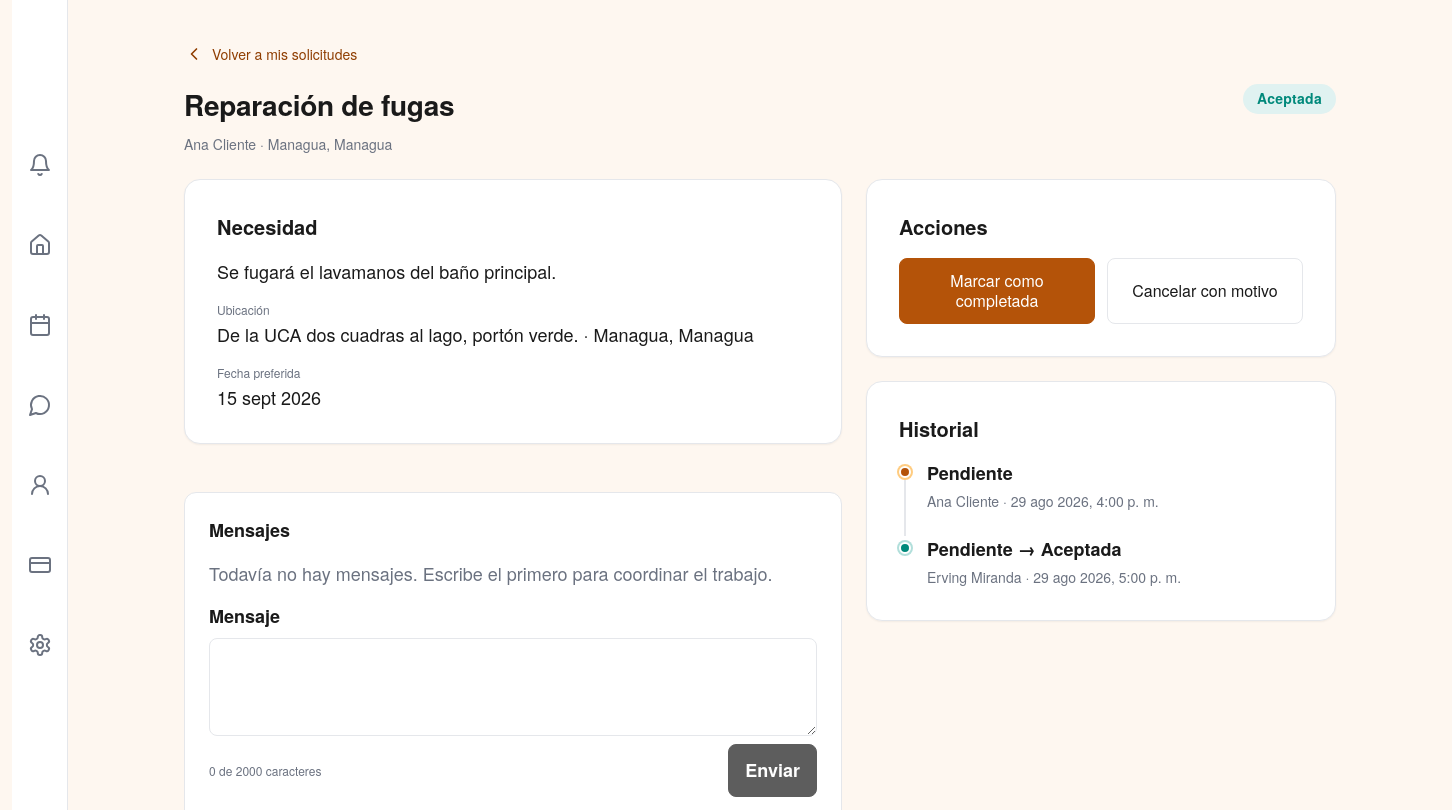
Test: Detalle de solicitud › completa como prestador y presenta el historial en orden
Expected: the list item "Pendiente Ana Cliente · 29 ago 2026, 4:00 p. m." is shown, [899,460,1159,511]
Expected: the list item that starts with "Pendiente → Aceptada" is shown, [927,536,1122,562]
Click the button "Marcar como completada": (997, 291) [899,258,1095,324]
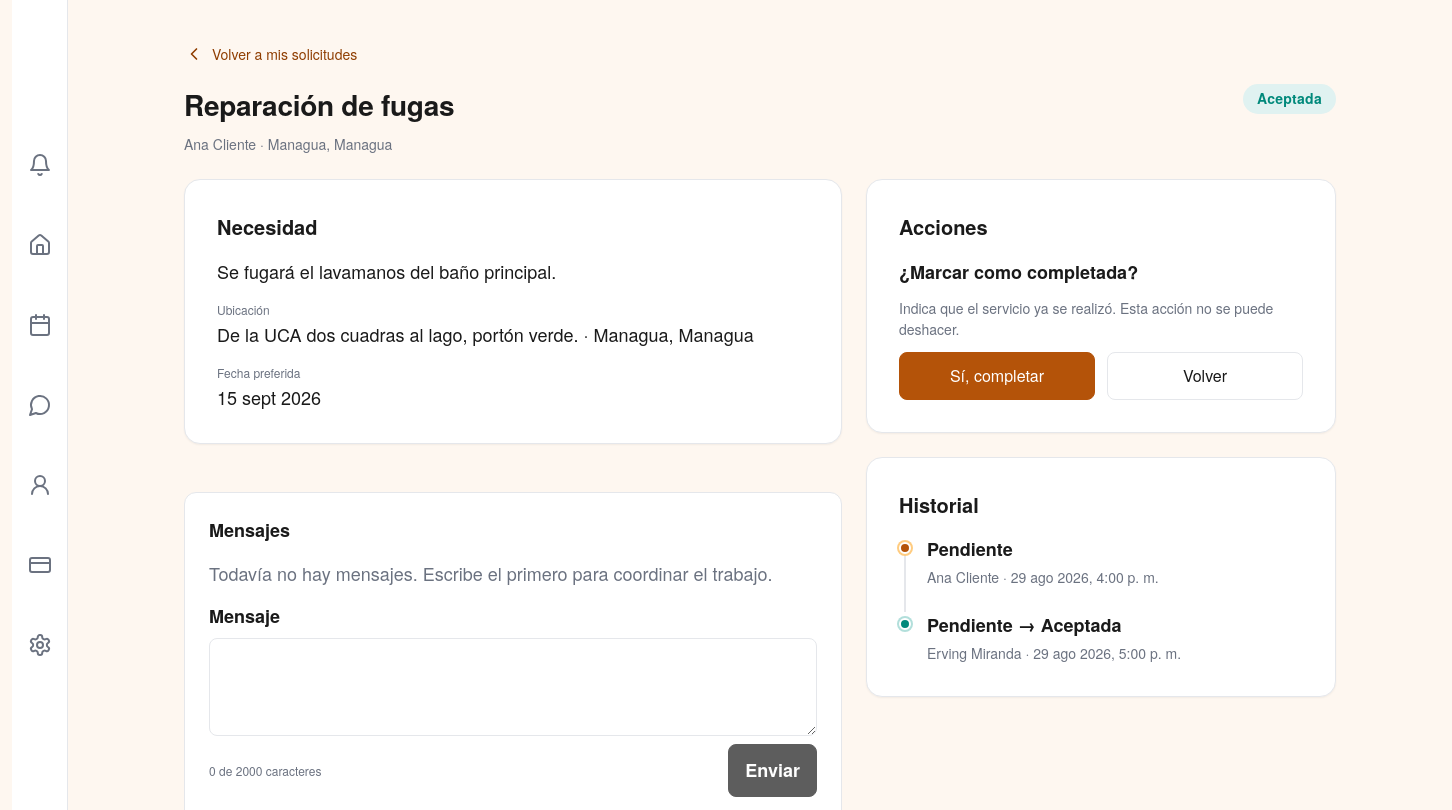
Click the button "Sí, completar": (997, 376) [899,352,1095,400]
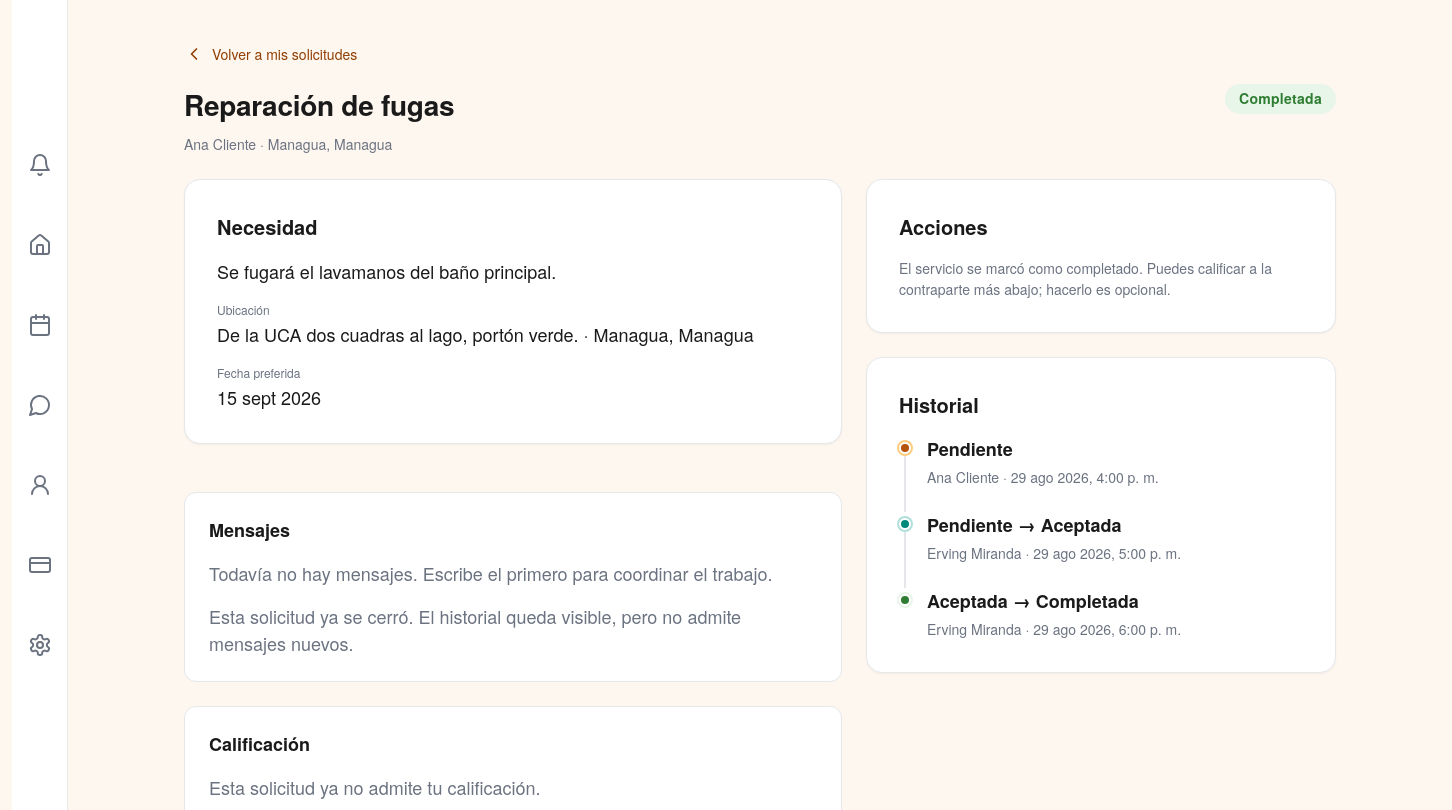
Now the text "se marcó como completado" is shown, box [899,258,1272,299]
